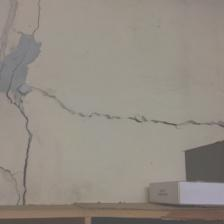High: (1, 1, 224, 178)
